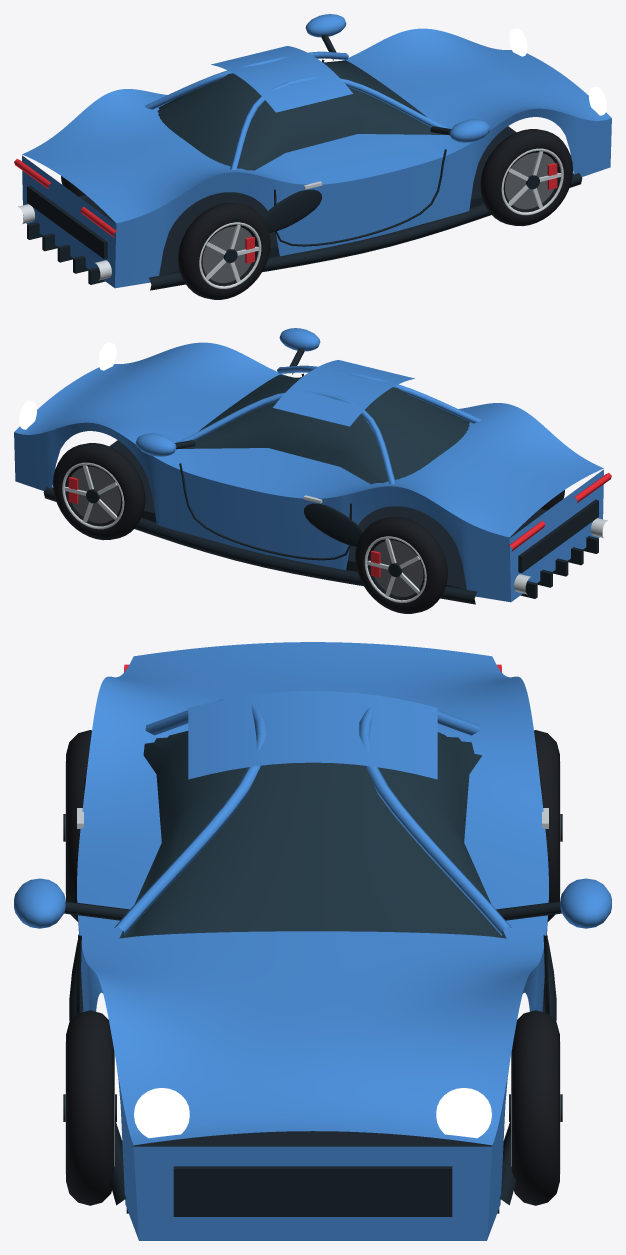
Rendered from car25.glb.
3 views of the same model, one above another, from view 1: azimuth 30°, elevation 25°; view 2: azimuth 150°, elevation 25°; view 3: azimuth 270°, elevation 25° (orthographic). The views are drawn at different scales.
Parts seen in each view (by area): view 1: CAR25, rim (×2); view 2: CAR25, rim (×2); view 3: CAR25, front-grille.
Boxes of the visible parts, x1,y1,x2,y2 form: CAR25: (14, 14, 611, 299); rim (×2): (199, 148, 563, 288); CAR25: (14, 328, 611, 613); rim (×2): (62, 462, 426, 602); CAR25: (14, 642, 611, 1240); front-grille: (173, 1166, 452, 1216).
Bounding box in the file's own units: 4.22 × 1.24 × 2.25.
